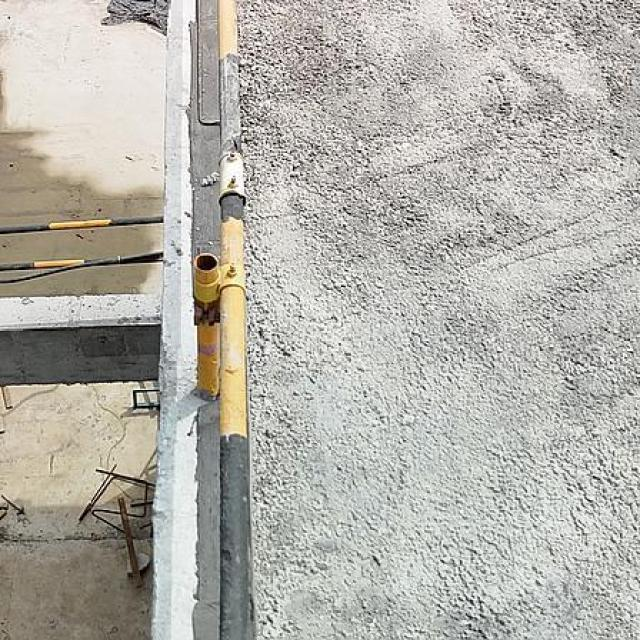Guardrail: (188, 0, 262, 640), (0, 213, 166, 267)
